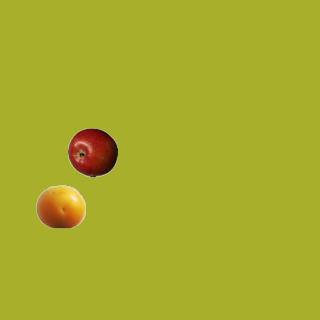Apple Braeburn: (67, 127, 117, 177)
Cherry Wax Yellow: (35, 181, 85, 231)
